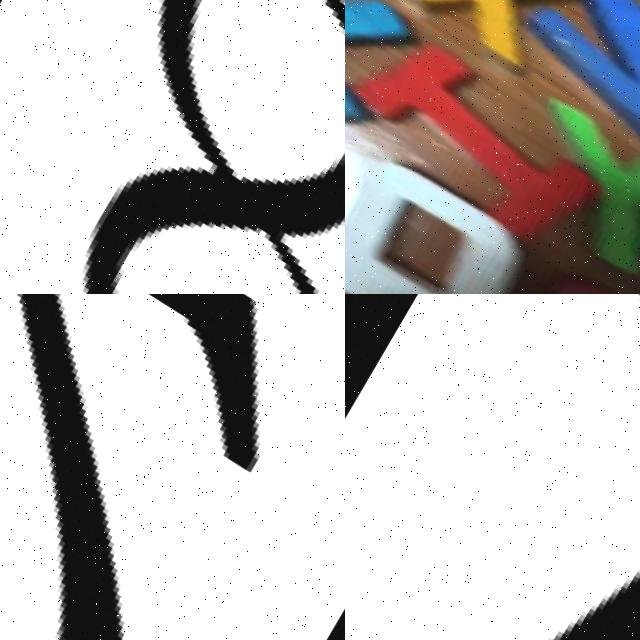7: (0, 294, 345, 640)
8: (0, 0, 345, 294)
I: (345, 7, 618, 265)
J: (345, 0, 424, 144)
K: (372, 294, 640, 640)
N: (521, 0, 640, 177)
Q: (345, 124, 545, 294)
X: (406, 0, 596, 73)
Y: (487, 73, 640, 279)
